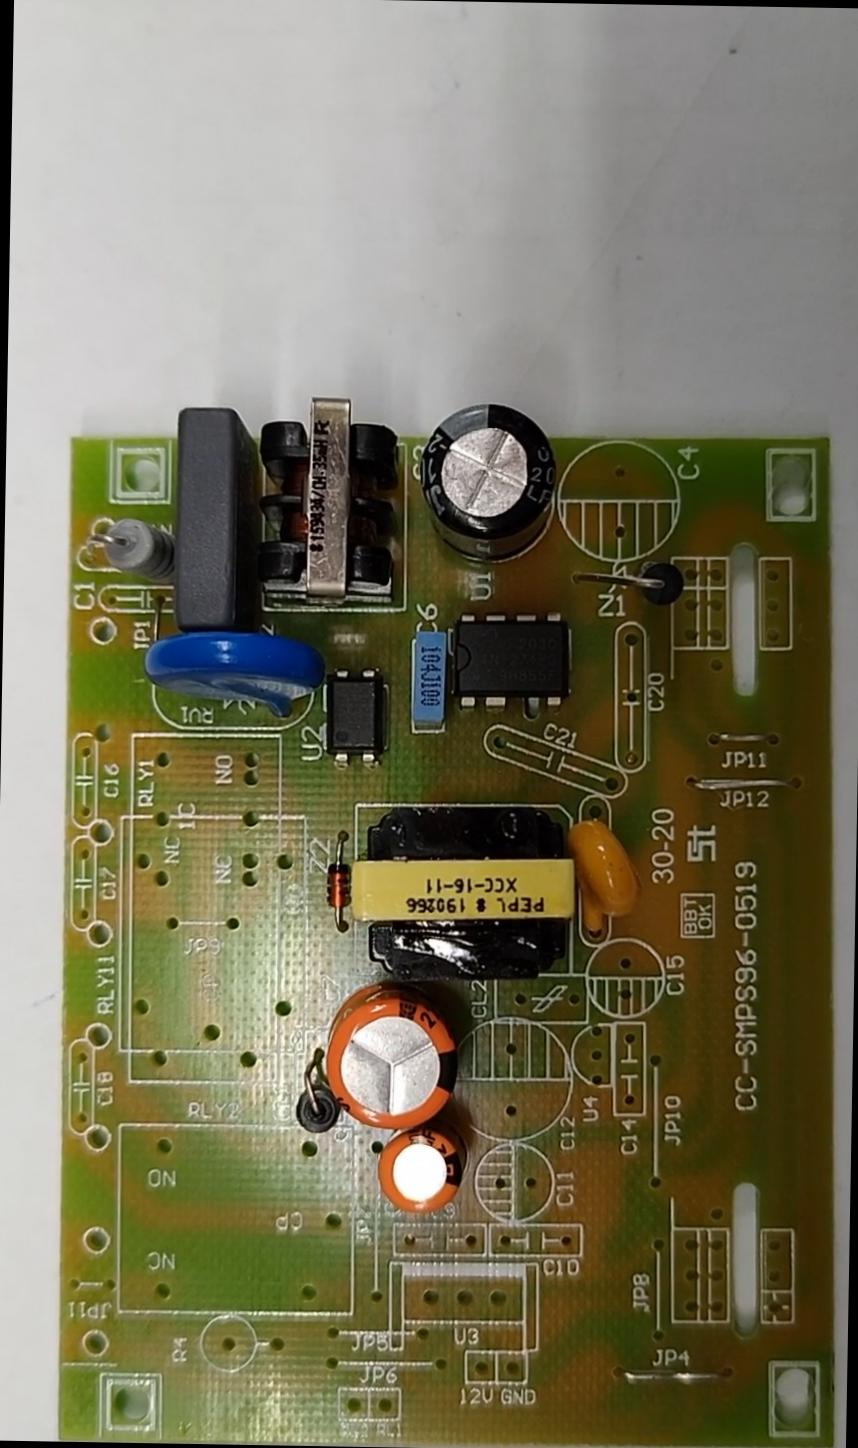Cap1: (325, 982, 459, 1131)
Cap2: (375, 1130, 460, 1216)
Cap3: (420, 402, 554, 569)
MOSFET: (452, 611, 566, 704)
Mov: (145, 634, 322, 711)
Resistor: (88, 516, 174, 579)
Transformer: (342, 800, 575, 973), (254, 392, 397, 600)
